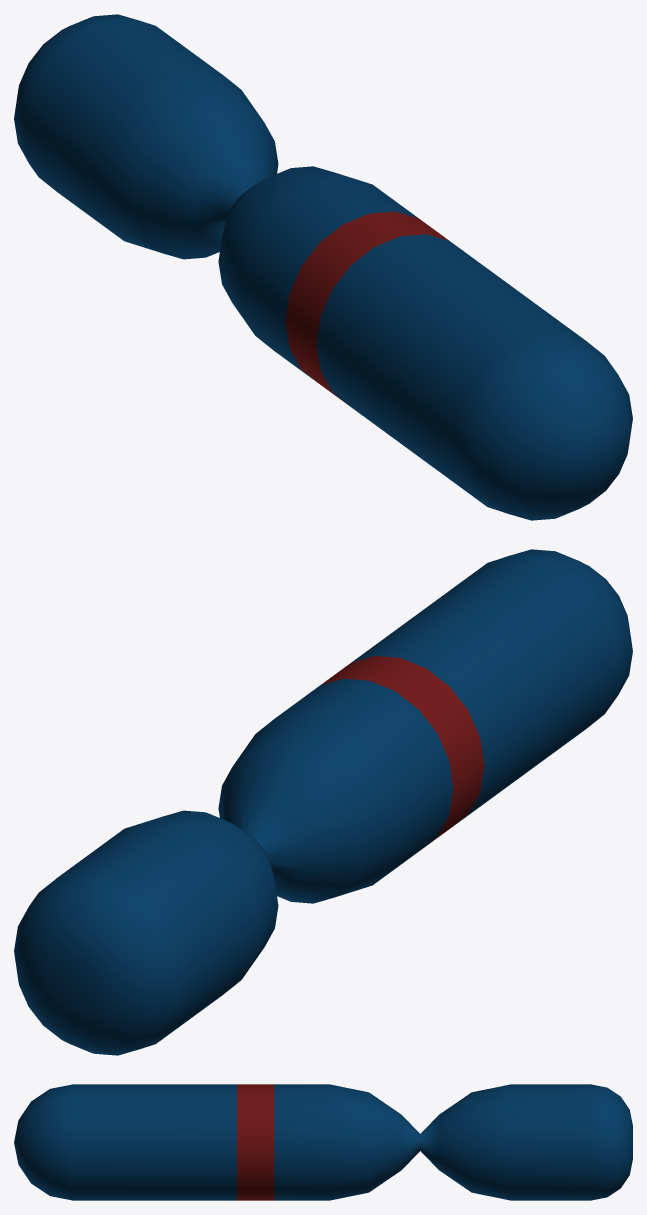
The model's file is Chromosomes_r_red.gltf.
3 renders of one model, top to bottom at view 1: azimuth 30°, elevation 25°; view 2: azimuth 150°, elevation 25°; view 3: azimuth 270°, elevation 25°, orthographic. The views are drawn at different scales.
Visible parts, largest first — view 1: Chromosomes_r; view 2: Chromosomes_r; view 3: Chromosomes_r.
Boxes of the visible parts, x1,y1,x2,y2 form: Chromosomes_r: [14, 14, 632, 520]; Chromosomes_r: [14, 549, 632, 1055]; Chromosomes_r: [14, 1084, 632, 1200].
Size of the model in its own units: 0.8512 by 0.8512 by 4.51.
1 material, 1 textured.
